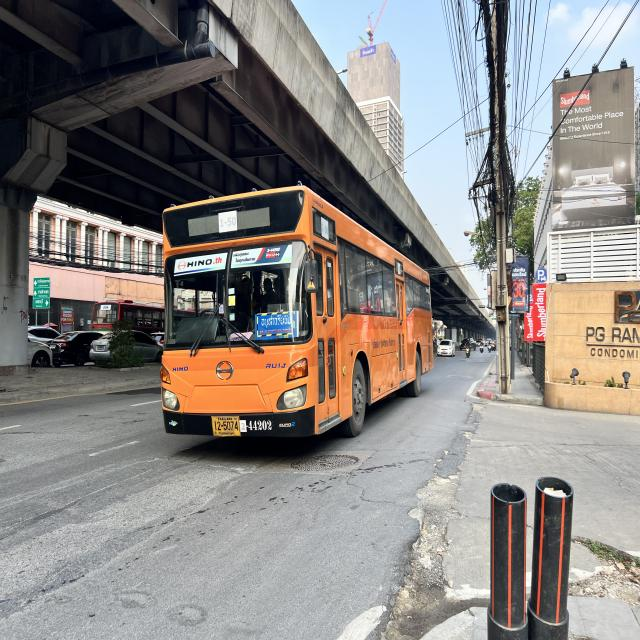BMTA-bus: (160, 186, 434, 443)
Bus-Line-Number: (218, 210, 238, 232)
Destination-Sign-Normal: (254, 311, 299, 338)
